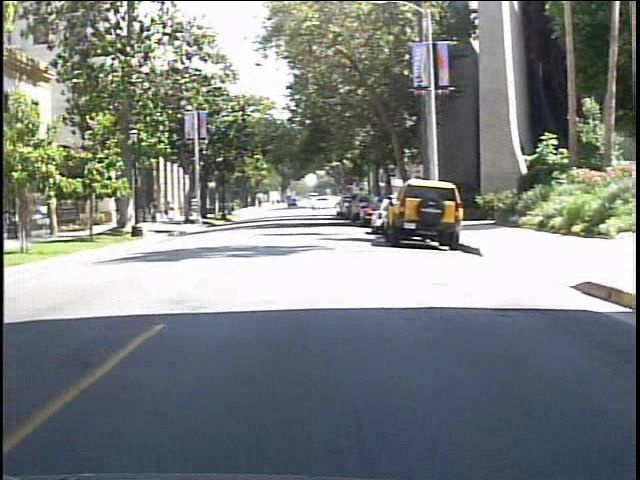person: (152, 195, 173, 228), (136, 194, 153, 227)
